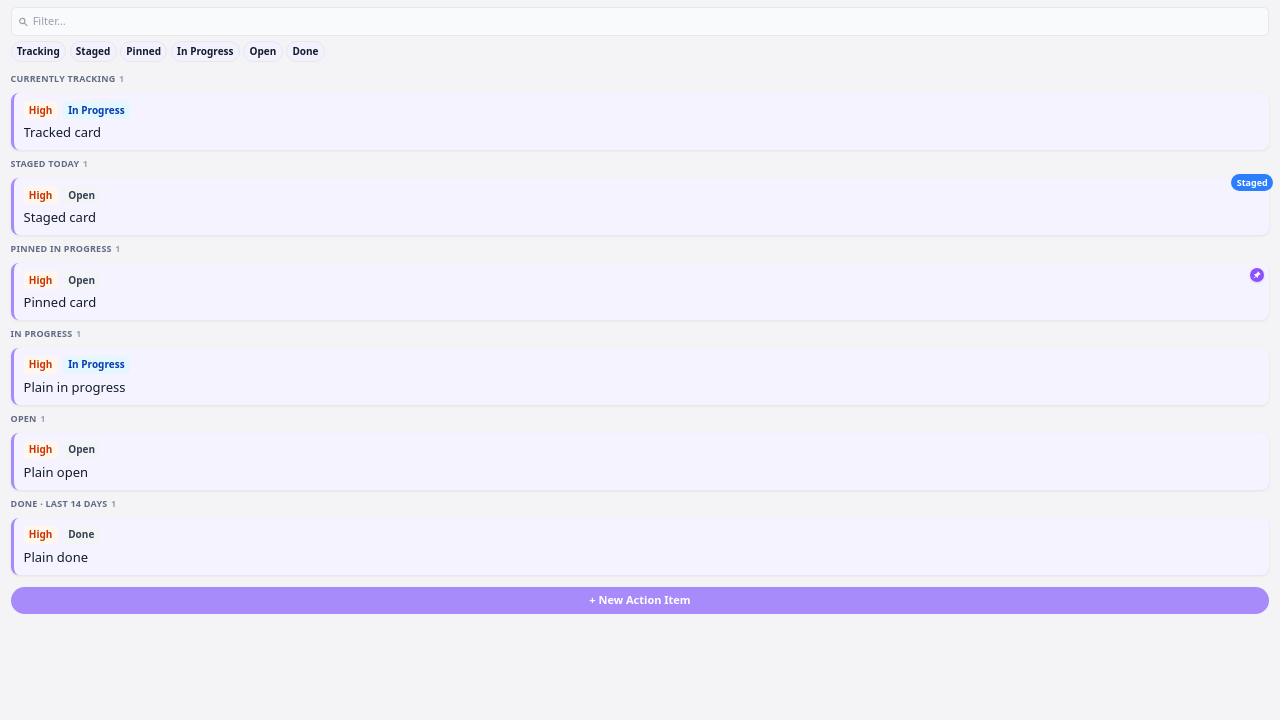
Test: action items sidebar filter flags › reaches a card by status even when it sits in a positional section
Expected: the text "Tracked card" is shown, [24,123,101,141]
Click the button "Open": point(263, 52) [243,41,283,62]
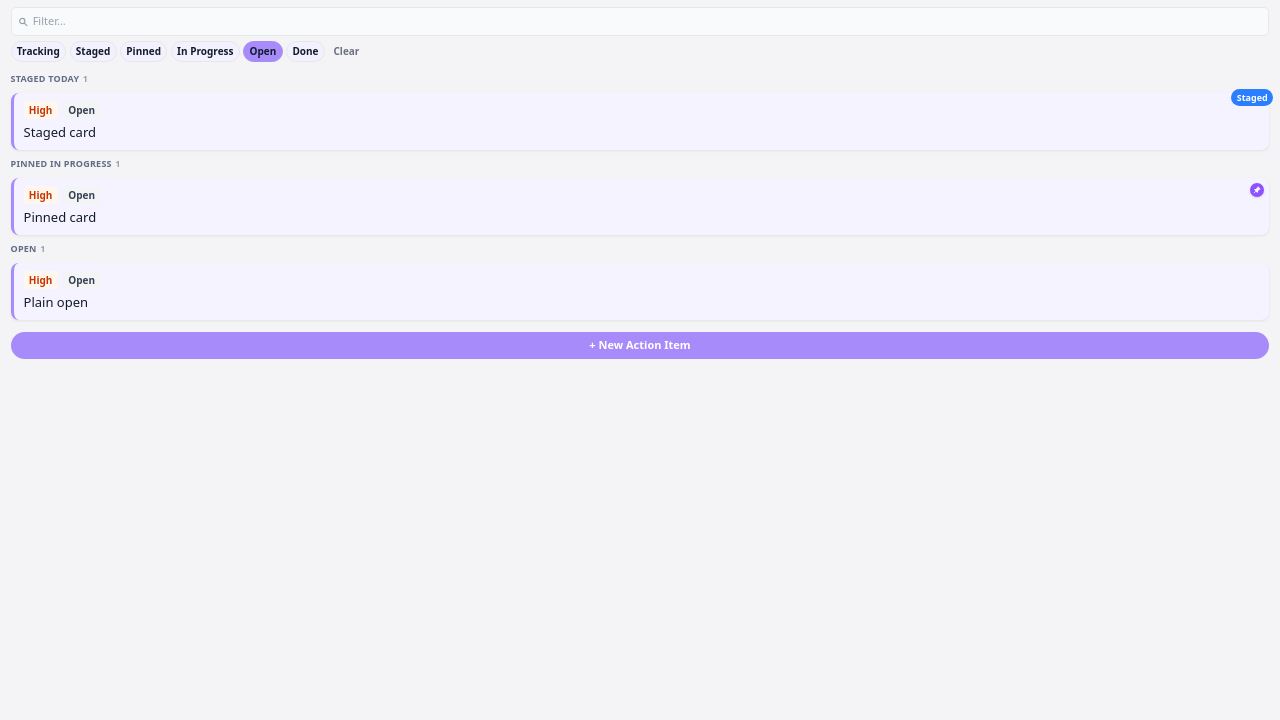
Expected: the text "Staged card" is shown, [24,123,96,141]
Now the text "Tracked card" is gone
